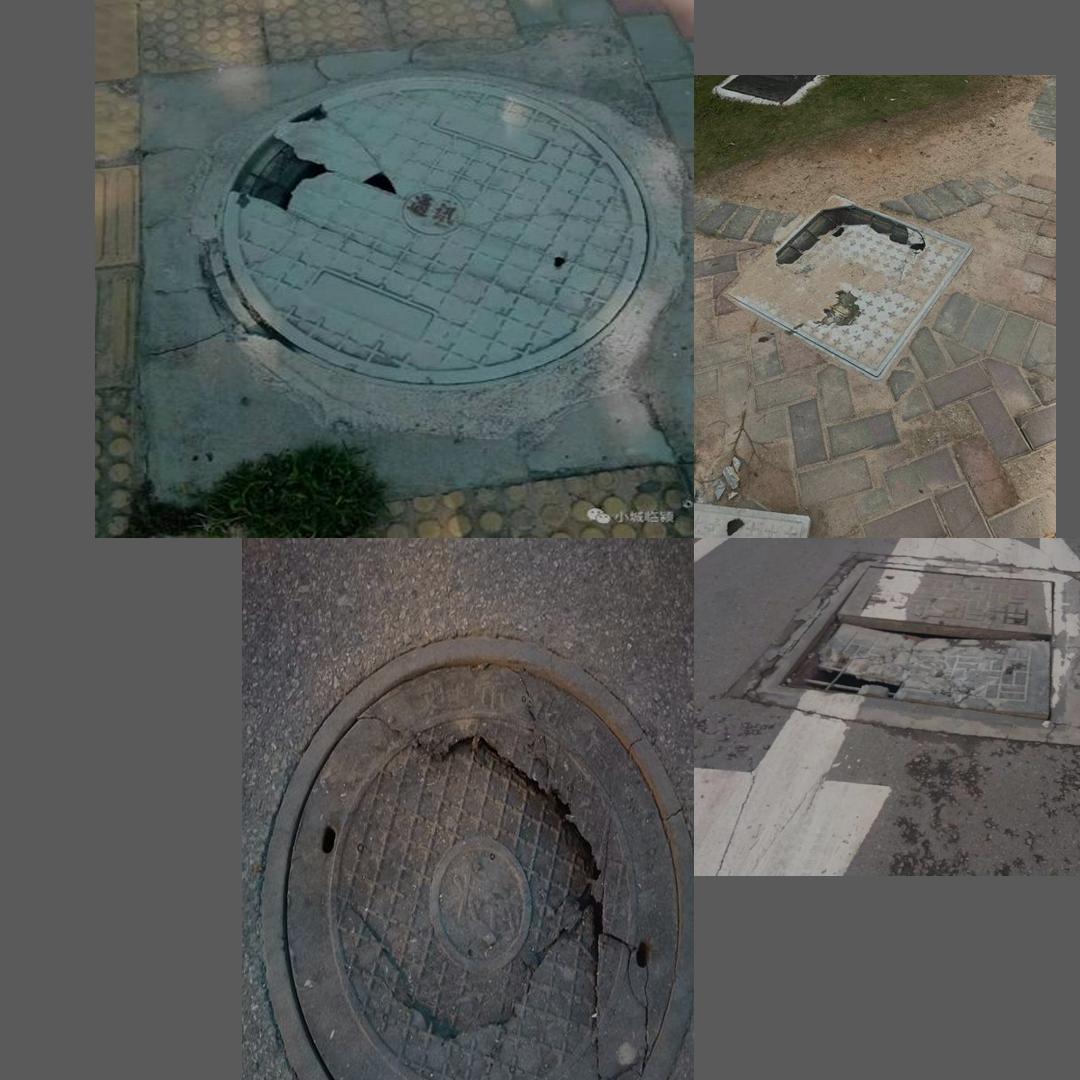broke: (152, 45, 673, 421), (264, 626, 683, 1080), (744, 560, 1080, 744), (730, 182, 977, 388)
